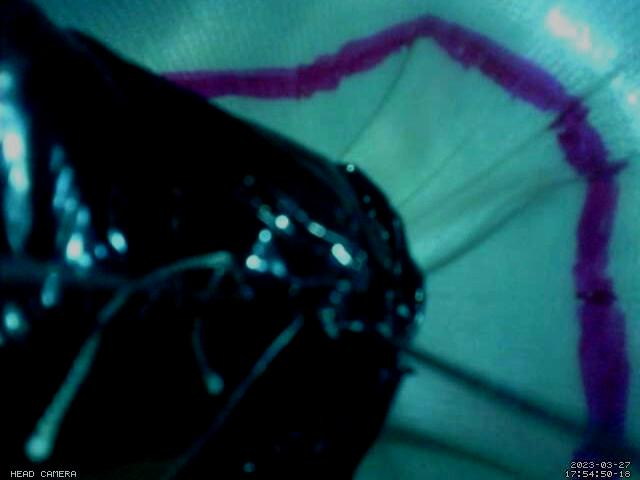red-circle: (158, 13, 631, 480)
